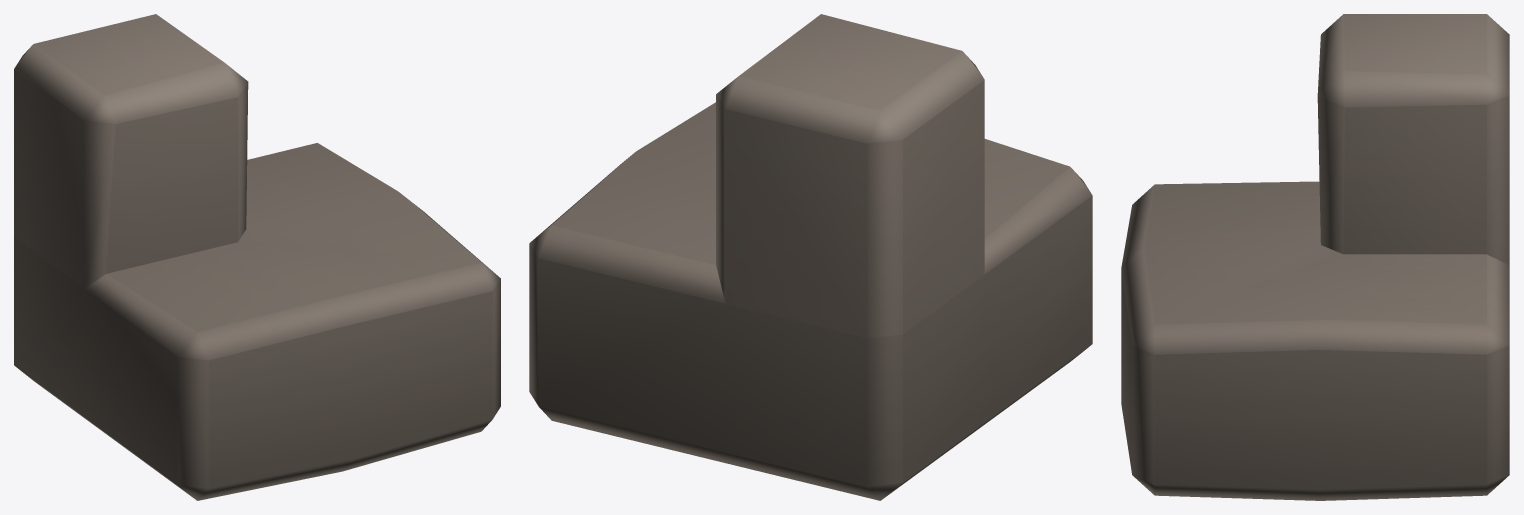
Rendered from elf_stair_corner_conv_shade_5.fbx.
3 renders of one model, left to right at view 1: azimuth 30°, elevation 25°; view 2: azimuth 150°, elevation 25°; view 3: azimuth 270°, elevation 25°, orthographic. The views are drawn at different scales.
Visible parts, largest first — view 1: elf_stair_corner_conv_shade_5; view 2: elf_stair_corner_conv_shade_5; view 3: elf_stair_corner_conv_shade_5.
Boxes of the visible parts, bbox=[...] form: elf_stair_corner_conv_shade_5: bbox=[14, 14, 500, 500]; elf_stair_corner_conv_shade_5: bbox=[529, 14, 1092, 500]; elf_stair_corner_conv_shade_5: bbox=[1121, 14, 1509, 500].
Size of the model in its own units: 50.88 by 50.69 by 51.43.
